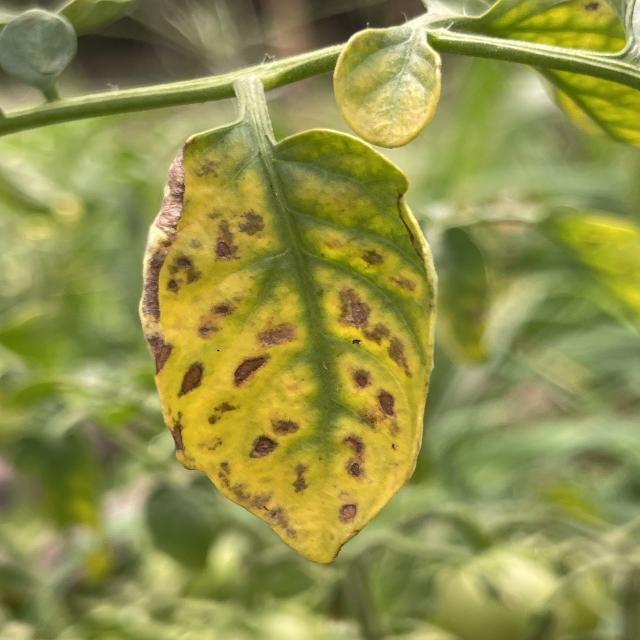tomato_early blight: (136, 110, 434, 566), (443, 0, 640, 144), (335, 26, 441, 149)
